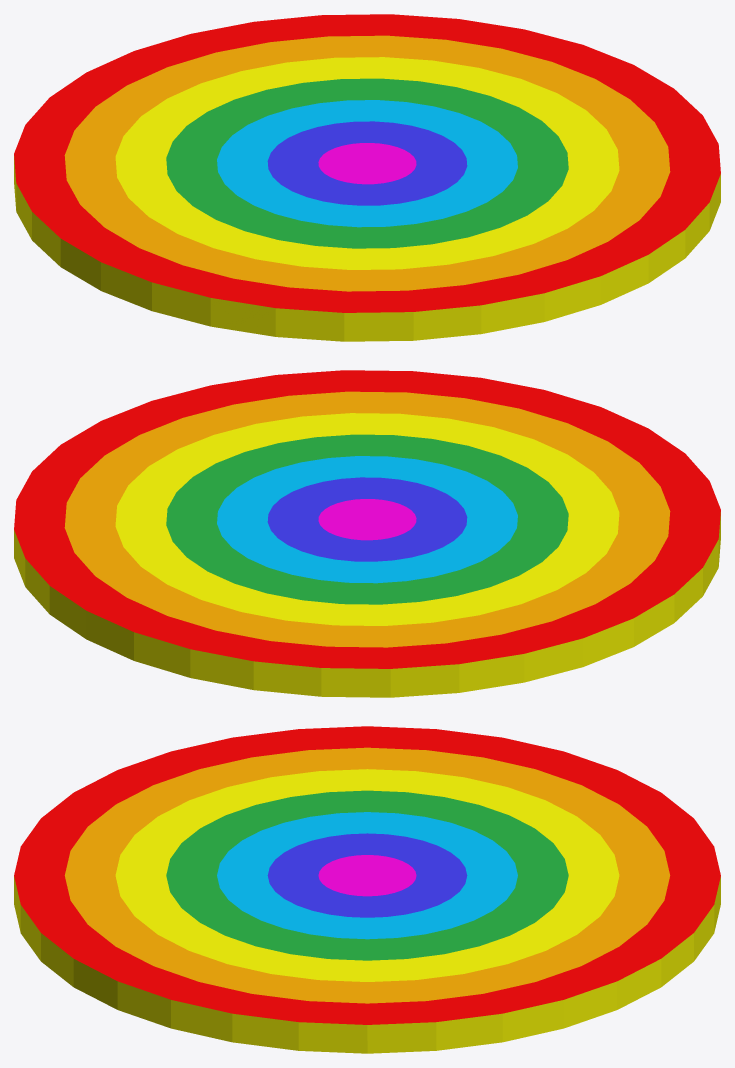
File: CirclePlatforn.fbx
The picture shows the model from 3 angles, top to bottom: view 1: azimuth 30°, elevation 25°; view 2: azimuth 150°, elevation 25°; view 3: azimuth 270°, elevation 25°; orthographic projection.
Visible parts, largest first — view 1: CirclePlatforn; view 2: CirclePlatforn; view 3: CirclePlatforn.
Part boxes in pixels (x1,y1,x2,y2): CirclePlatforn: (14,14,720,341); CirclePlatforn: (14,370,720,697); CirclePlatforn: (14,726,720,1053).
Size of the model in its own units: 14 by 0.6276 by 14.
